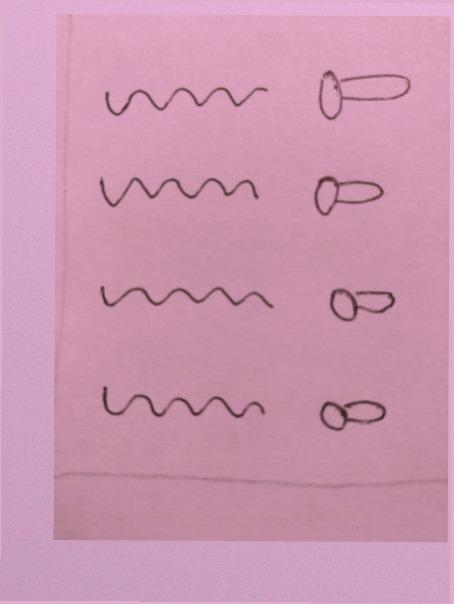switch: (307, 58, 415, 128), (306, 164, 392, 226), (320, 274, 407, 329), (310, 387, 392, 441)
text: (87, 374, 283, 436), (92, 270, 283, 330), (98, 70, 271, 133), (91, 169, 268, 220)
